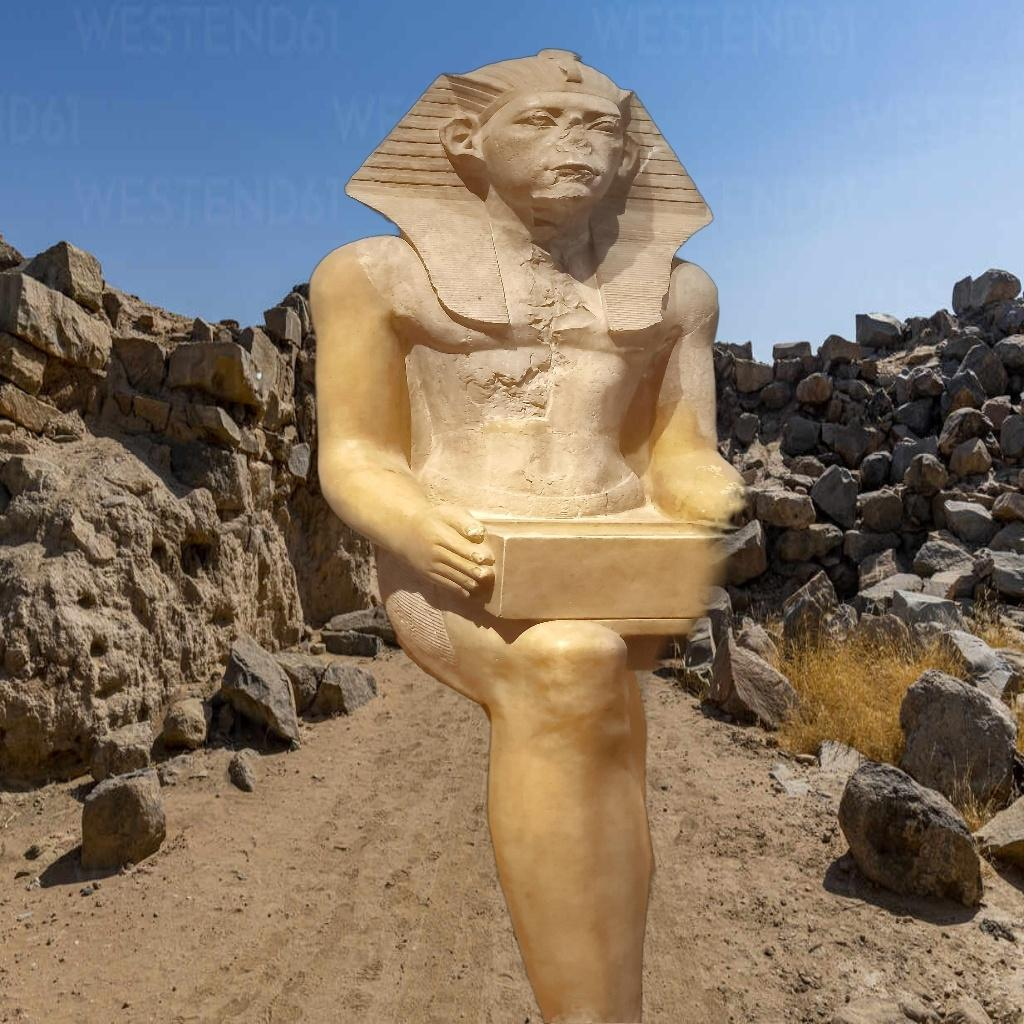Amenhotep III with Plate: (304, 37, 804, 1023)
